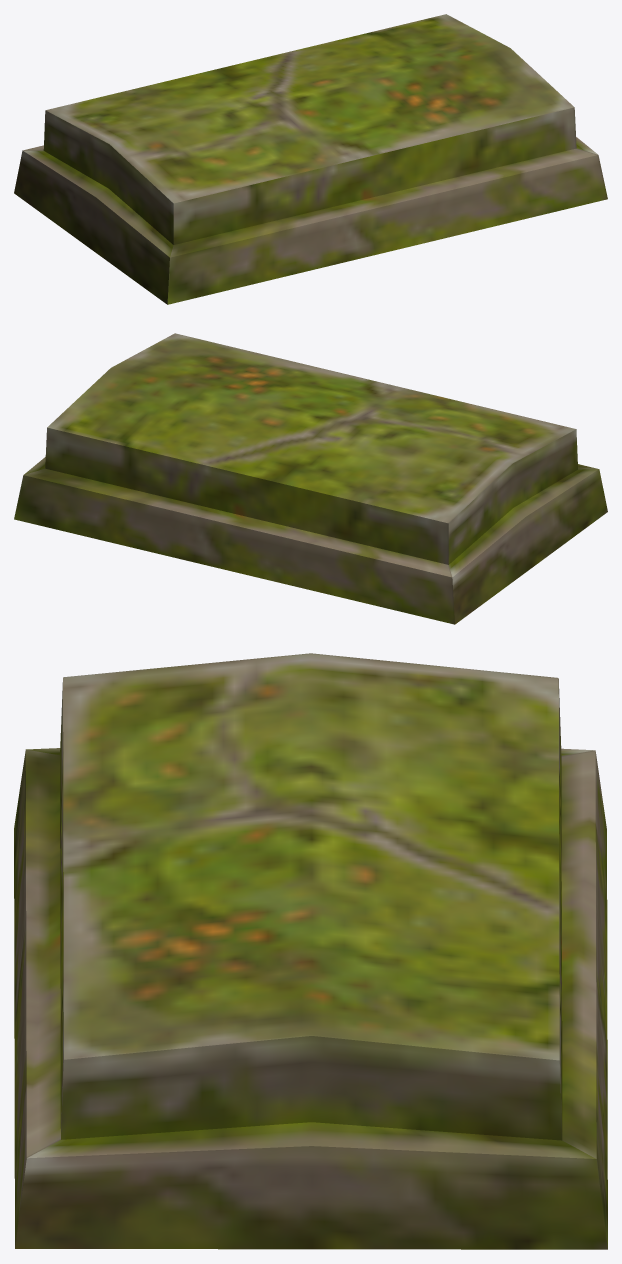
File: Bui_shizhuan.FBX
3 renders of one model, top to bottom at view 1: azimuth 30°, elevation 25°; view 2: azimuth 150°, elevation 25°; view 3: azimuth 270°, elevation 25°, orthographic. The views are drawn at different scales.
Visible parts, largest first — view 1: Bui_shizhuan; view 2: Bui_shizhuan; view 3: Bui_shizhuan.
Part boxes in pixels (x1=…): Bui_shizhuan: x1=14, y1=14, x2=607, y2=304; Bui_shizhuan: x1=14, y1=333, x2=607, y2=624; Bui_shizhuan: x1=14, y1=653, x2=607, y2=1249.
Size of the model in its own units: 1.28 by 0.2846 by 0.7729.
1 material, 1 textured.
